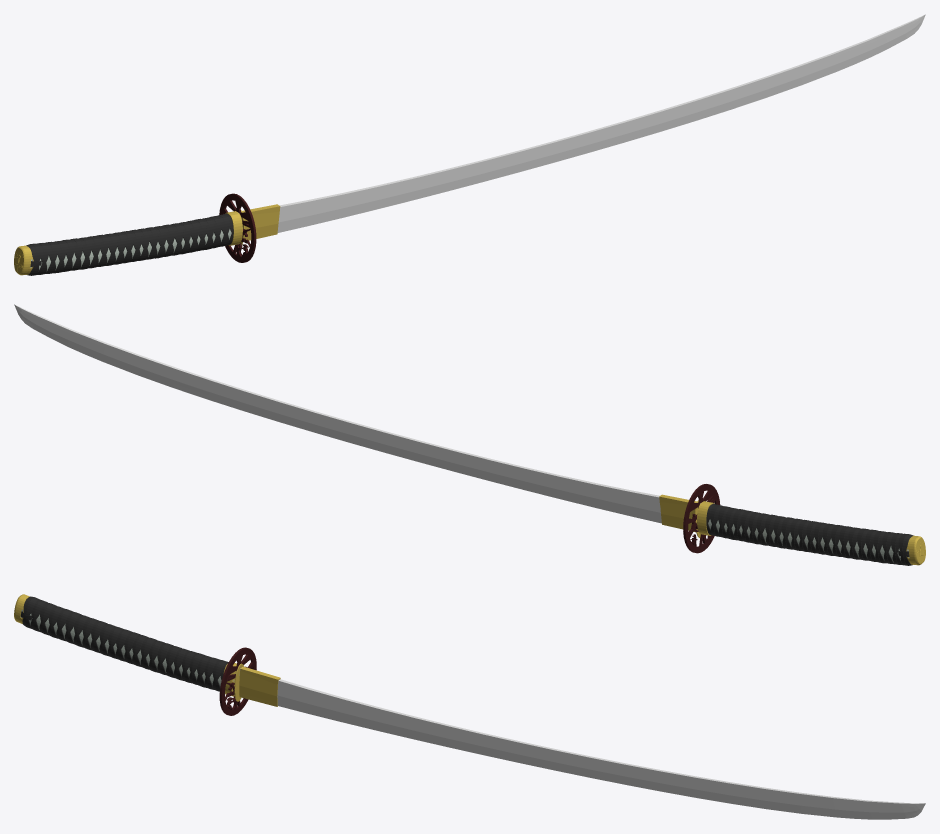
Rendered from katana.fbx.
3 renders of one model, top to bottom at view 1: azimuth 30°, elevation 25°; view 2: azimuth 150°, elevation 25°; view 3: azimuth 330°, elevation 25°, orthographic.
Parts seen in each view (by area): view 1: Cube, Cylinder.001, Cube.002, Cube.001, Cylinder; view 2: Cube, Cylinder.001, Cube.002, Cube.001, Cylinder; view 3: Cube, Cylinder.001, Cube.001, Cube.002, Cylinder.
Boxes of the visible parts, <box> form: Cube: <box>277,14,925,232</box>; Cylinder.001: <box>26,213,233,275</box>; Cube.002: <box>219,193,256,262</box>; Cube.001: <box>242,204,280,240</box>; Cylinder: <box>30,229,231,271</box>; Cube: <box>14,304,700,523</box>; Cylinder.001: <box>706,503,913,565</box>; Cube.002: <box>683,484,720,553</box>; Cube.001: <box>659,494,697,532</box>; Cylinder: <box>708,519,909,562</box>; Cube: <box>239,668,925,819</box>; Cylinder.001: <box>21,596,228,691</box>; Cube.001: <box>239,666,280,706</box>; Cube.002: <box>219,647,256,715</box>; Cylinder: <box>20,609,234,686</box>.
Size of the model in its own units: 1173 by 96.68 by 78.49.
